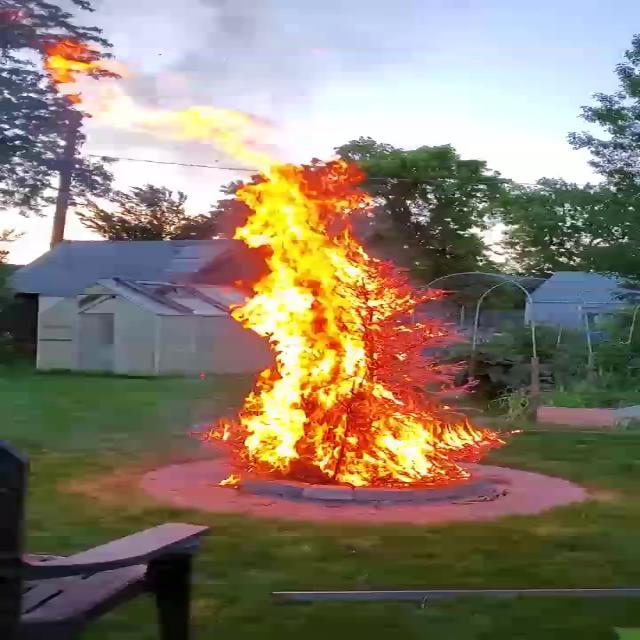Fire: (208, 148, 486, 492)
